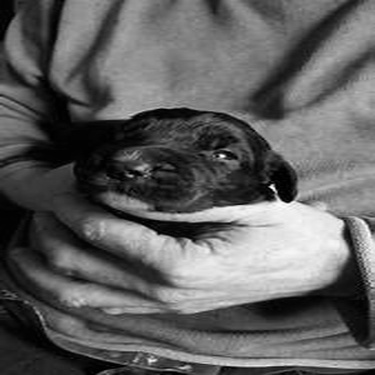dog: (61, 86, 309, 257)
